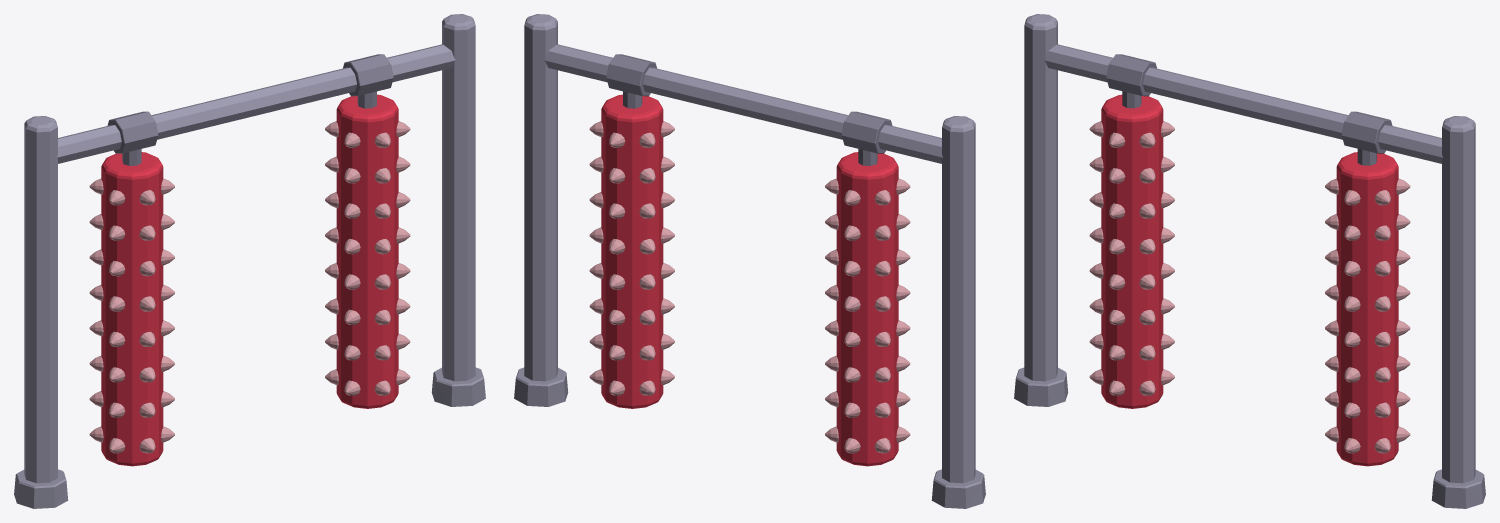
Rendered from Hurdle25.fbx.
The picture shows the model from 3 angles, left to right: view 1: azimuth 30°, elevation 25°; view 2: azimuth 150°, elevation 25°; view 3: azimuth 330°, elevation 25°; orthographic projection.
Parts seen in each view (by area): view 1: Hurdle25; view 2: Hurdle25; view 3: Hurdle25.
Part boxes in pixels (bbox=[...]): Hurdle25: bbox=[14, 14, 485, 508]; Hurdle25: bbox=[514, 14, 985, 508]; Hurdle25: bbox=[1014, 14, 1485, 508].
Bounding box in the file's own units: 5.94 × 4.59 × 0.9388.
1 material, 1 textured.
